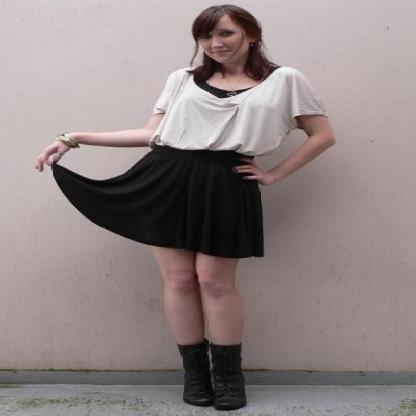shirt: (154, 67, 321, 153)
shoe: (178, 341, 246, 411)
skirt: (51, 144, 263, 258)
